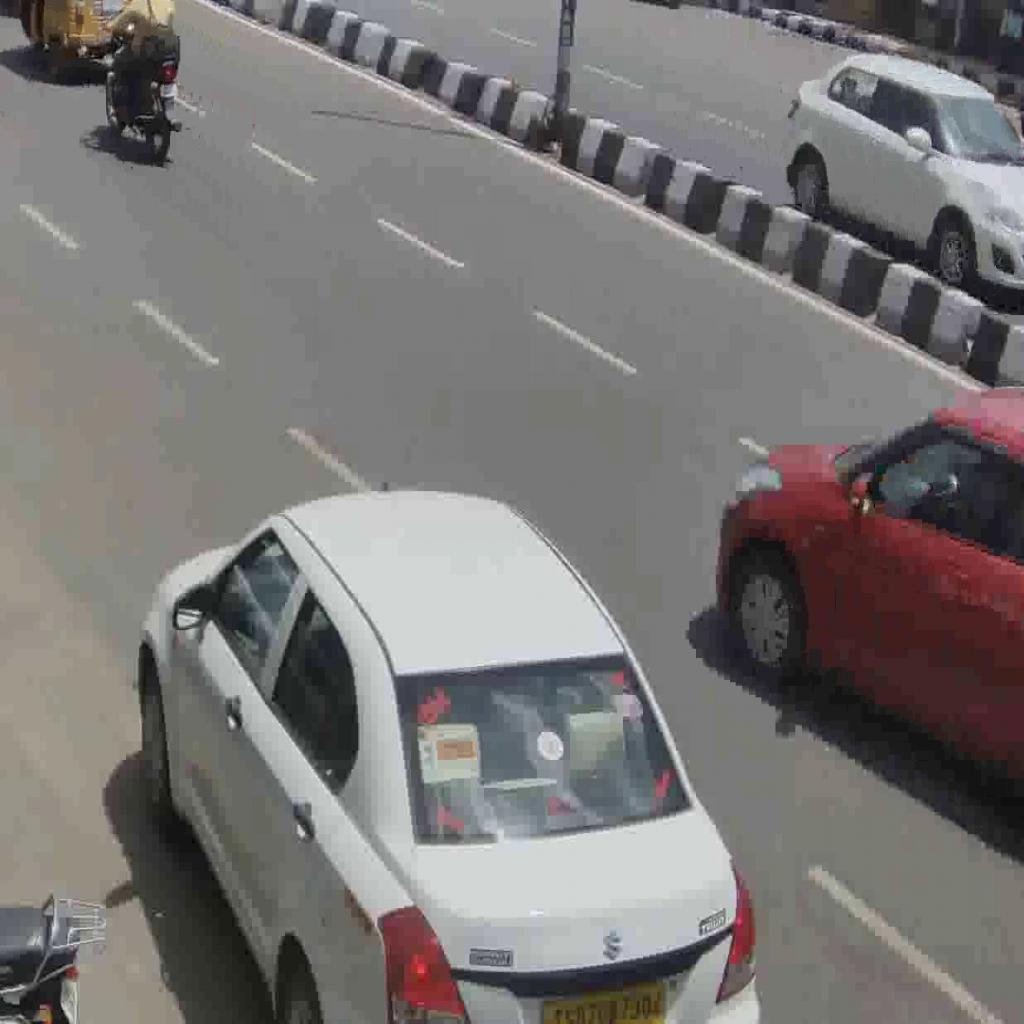helmet: (103, 21, 183, 160)
